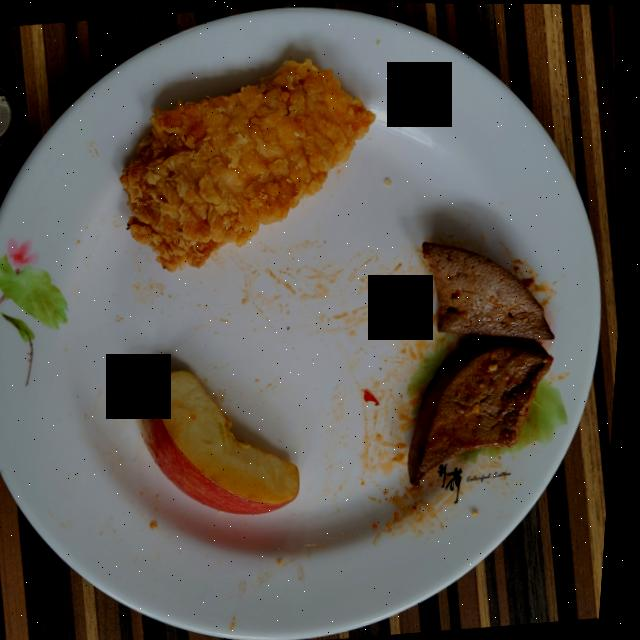apple -sliced-: (146, 370, 305, 514)
coin: (0, 87, 21, 146)
fried chicken cutlet: (123, 59, 376, 270)
pig liver: (414, 241, 558, 485)
